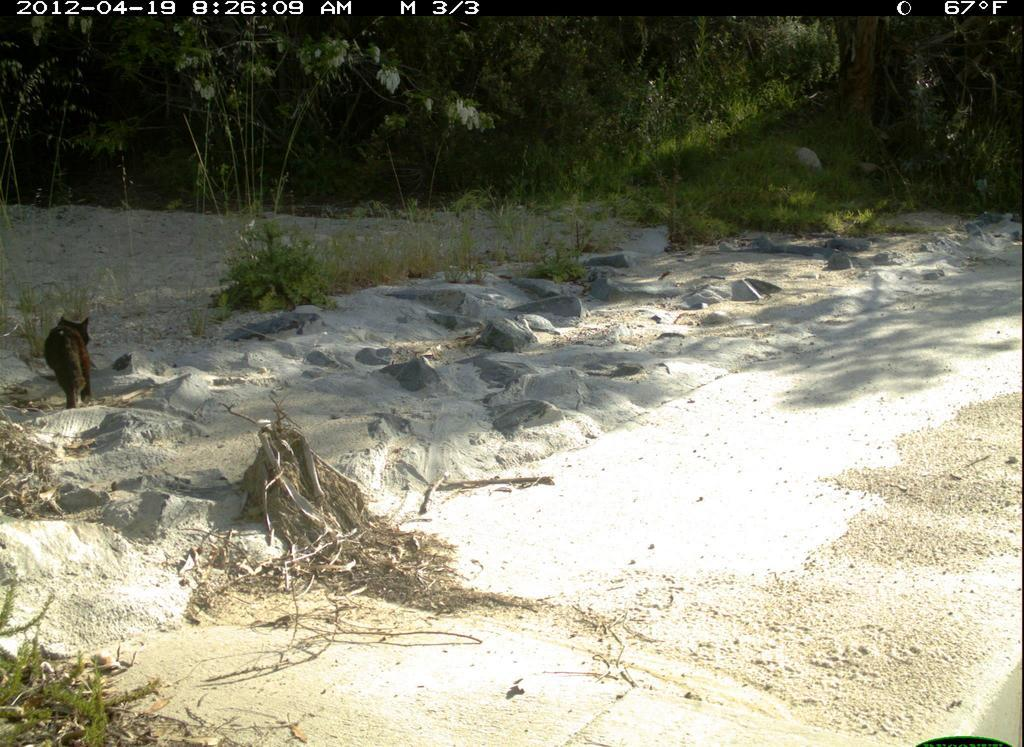cat: (34, 303, 108, 415)
